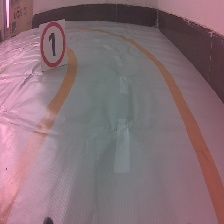limit: (37, 18, 70, 73)
